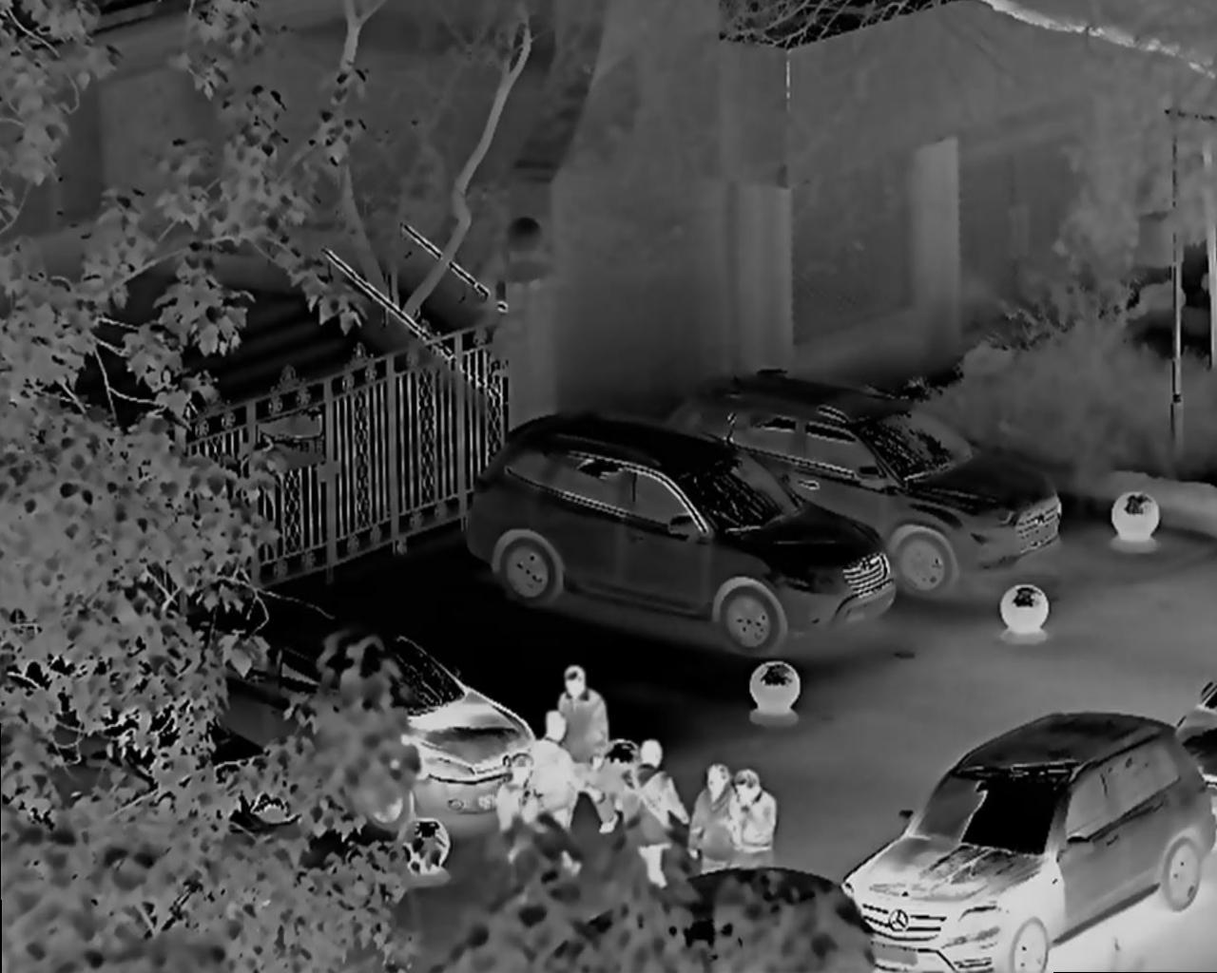person: (556, 662, 620, 836), (628, 738, 686, 890), (728, 763, 789, 890), (533, 710, 581, 861), (501, 756, 551, 879), (690, 766, 735, 889)
